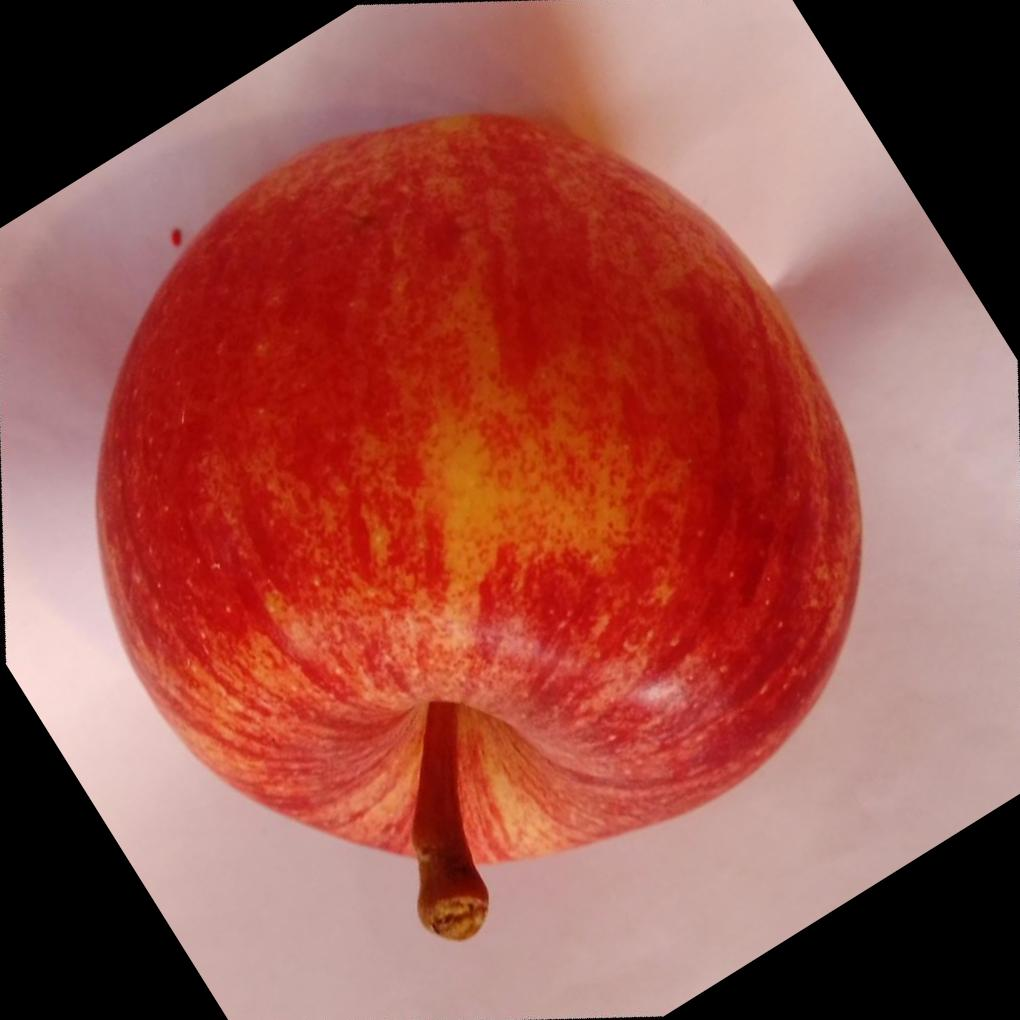FreshGuava: (88, 110, 862, 944)
